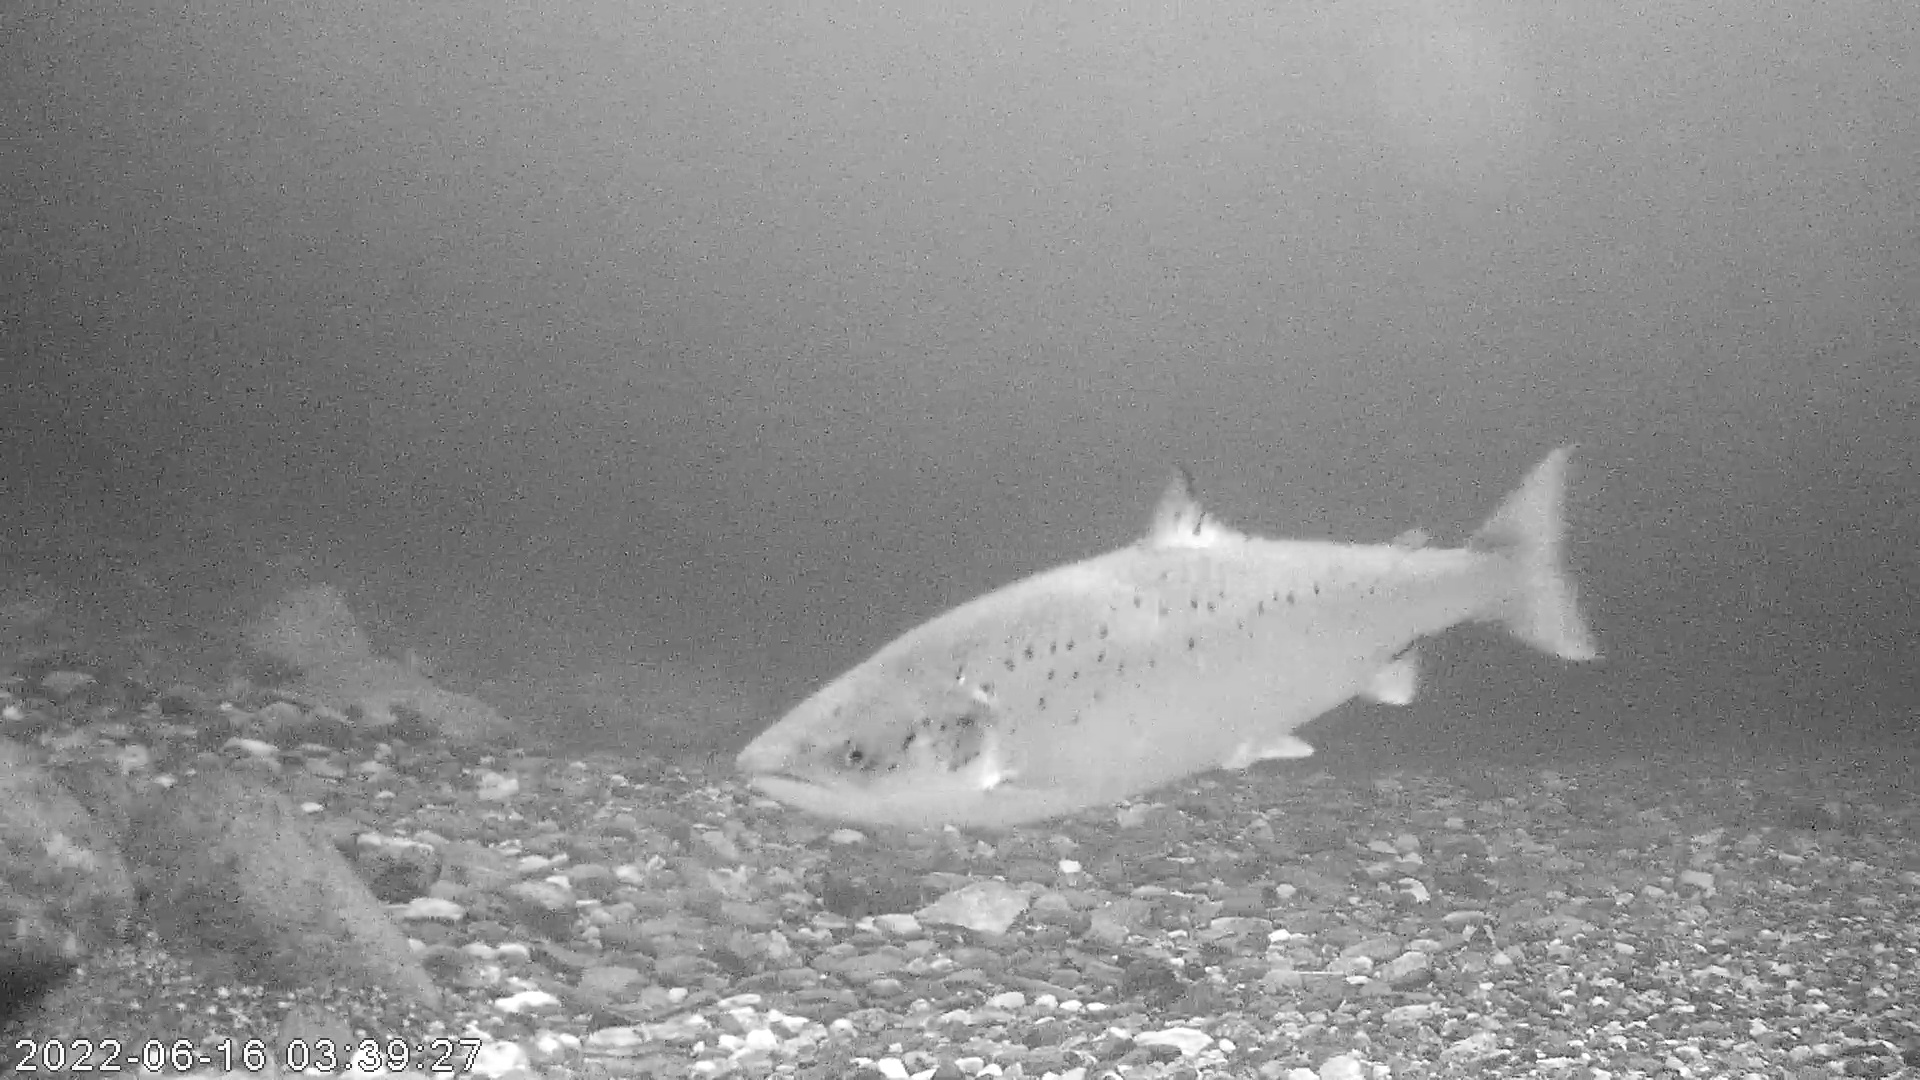salmon: (727, 438, 1606, 832)
